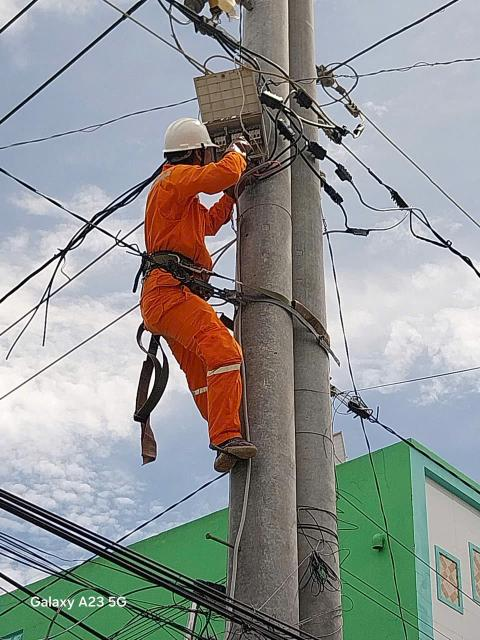gloves: (220, 133, 255, 159)
harness: (125, 236, 229, 311)
helmet: (154, 115, 220, 159)
shoes: (196, 431, 262, 471)
